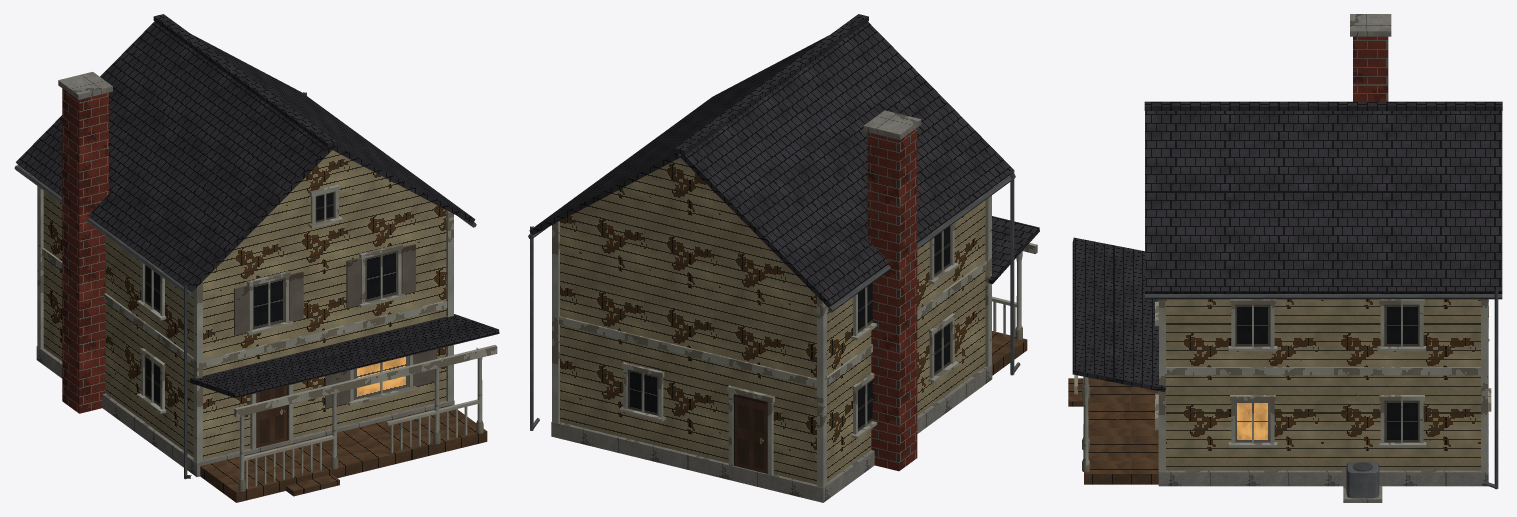
The model's file is town_house_d.glb.
The picture shows the model from 3 angles, left to right: view 1: azimuth 30°, elevation 25°; view 2: azimuth 150°, elevation 25°; view 3: azimuth 270°, elevation 25°; orthographic projection. The views are drawn at different scales.
Parts seen in each view (by area): view 1: detail, shell-col; view 2: detail, shell-col; view 3: detail, shell-col.
Boxes of the visible parts, left/top/right/bottom form: detail: left=14, top=14, right=499, bottom=491; shell-col: left=36, top=186, right=487, bottom=502; detail: left=528, top=14, right=1039, bottom=487; shell-col: left=551, top=196, right=1027, bottom=502; detail: left=1072, top=14, right=1502, bottom=502; shell-col: left=1068, top=299, right=1488, bottom=486.
Size of the model in its own units: 9.58 by 9.27 by 11.06.
14 materials, 14 textured.
